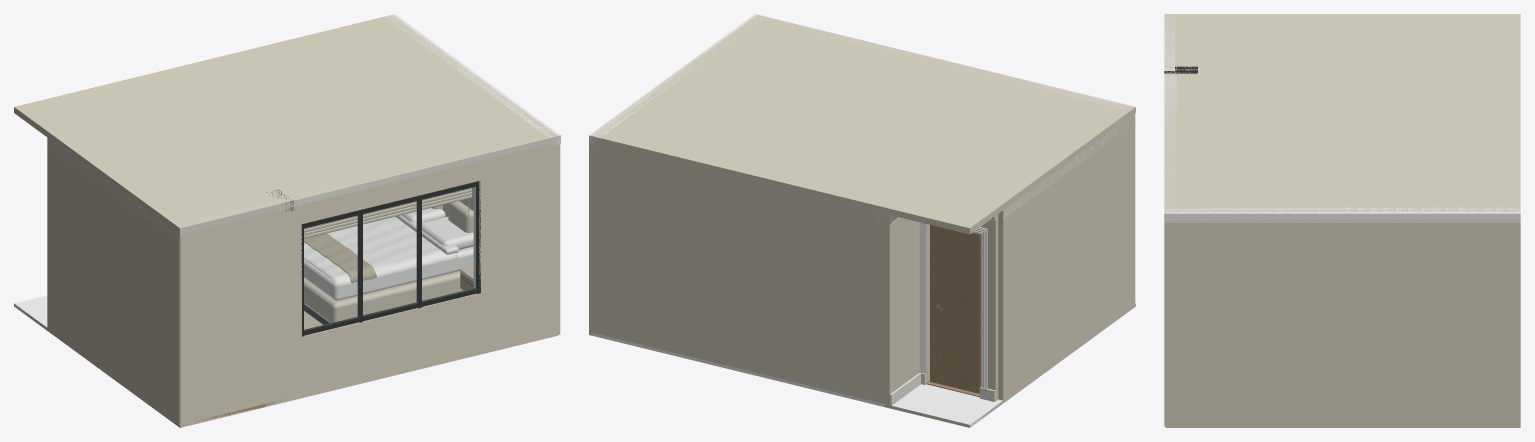
The picture shows the model from 3 angles, left to right: view 1: azimuth 30°, elevation 25°; view 2: azimuth 150°, elevation 25°; view 3: azimuth 270°, elevation 25°; orthographic projection. The views are drawn at different scales.
Parts seen in each view (by area): view 1: Bedroom 2 | ceiling.001, Bedroom 2 stair partition | end.001, Proposal revision | First front | corrected wall 14.001, Proposal | Modern original upper window 0 glass.001, Proposal revision | First front | corrected wall 17.001, Proposal revision | First front | corrected wall 15.001, Proposal revision | First front | corrected wall 13.001, Bedroom2 01 | draped cotton duvet.001, Landing continuous ceiling.001, Proposal revision | First front | corrected wall 16.001, Bedroom2 01 | bed upholstered frame.001, Proposal revision | Roof join | First front masonry head.003 (+18 smaller); view 2: Bedroom 2 | ceiling.001, Principal bedroom 2 | end.001, Bedroom 2 stair partition | end.001, Bedroom2 01 | entrance door leaf.001, Landing continuous ceiling.001, Bedroom 2 hall | end.001, Landing | floor.001, Trim comparison | Bedroom 2 door opening 1 side 1 mitred cas, Principal bedroom | ceiling.001, Principal hall return | end.001, Bedroom 2 door | pier 0.001, Proposal revision | First east | end.001 (+7 smaller); view 3: Proposal revision | First east | end.001, Bedroom 2 | ceiling.001, Landing continuous ceiling.001, Roof join | First east masonry head.001, Roof join | East soffit.001, Proposal revision | Roof join | First front masonry head.003, Proposal revision | Exterior brick floor band First east.001, Proposal | Joined roof lining 023 | Retained original hip 2., Proposal | Joined roof lining 007 | Retained original hip 1., Proposal | Entrance upper ceiling.001, Principal bedroom | ceiling.001, Proposal revision | First front | corrected wall 17.001.
Part boxes in pixels (<box>): Bedroom 2 | ceiling.001: <box>52,15,557,226</box>; Bedroom 2 stair partition | end.001: <box>47,137,179,424</box>; Proposal revision | First front | corrected wall 14.001: <box>203,205,301,418</box>; Proposal | Modern original upper window 0 glass.001: <box>304,187,476,330</box>; Proposal revision | First front | corrected wall 17.001: <box>479,143,558,351</box>; Proposal revision | First front | corrected wall 15.001: <box>302,293,479,394</box>; Proposal revision | First front | corrected wall 13.001: <box>179,229,203,424</box>; Bedroom2 01 | draped cotton duvet.001: <box>304,217,458,288</box>; Landing continuous ceiling.001: <box>14,86,183,233</box>; Proposal revision | First front | corrected wall 16.001: <box>302,161,479,223</box>; Bedroom2 01 | bed upholstered frame.001: <box>304,271,463,323</box>; Proposal revision | Roof join | First front masonry head.003: <box>200,135,558,228</box>; Bedroom 2 | ceiling.001: <box>595,15,1129,206</box>; Principal bedroom 2 | end.001: <box>591,143,884,403</box>; Bedroom 2 stair partition | end.001: <box>998,114,1135,400</box>; Bedroom2 01 | entrance door leaf.001: <box>930,225,980,393</box>; Landing continuous ceiling.001: <box>885,106,1135,234</box>; Bedroom 2 hall | end.001: <box>890,218,919,393</box>; Landing | floor.001: <box>885,384,1001,427</box>; Trim comparison | Bedroom 2 door opening 1 side 1 mitred cas: <box>919,222,987,388</box>; Principal bedroom | ceiling.001: <box>591,136,885,213</box>; Principal hall return | end.001: <box>880,212,890,405</box>; Bedroom 2 door | pier 0.001: <box>981,214,998,400</box>; Proposal revision | First east | end.001: <box>589,142,600,334</box>; Proposal revision | First east | end.001: <box>1165,220,1520,424</box>; Bedroom 2 | ceiling.001: <box>1165,16,1518,212</box>; Landing continuous ceiling.001: <box>1165,14,1520,58</box>; Roof join | First east masonry head.001: <box>1165,207,1520,220</box>; Roof join | East soffit.001: <box>1164,218,1520,222</box>; Proposal revision | Roof join | First front masonry head.003: <box>1164,26,1176,212</box>; Proposal revision | Exterior brick floor band First east.001: <box>1165,424,1520,427</box>; Proposal | Joined roof lining 023 | Retained original hip 2.: <box>1168,210,1519,218</box>; Proposal | Joined roof lining 007 | Retained original hip 1.: <box>1164,75,1176,155</box>; Proposal | Entrance upper ceiling.001: <box>1164,14,1174,70</box>; Principal bedroom | ceiling.001: <box>1518,58,1520,211</box>; Proposal revision | First front | corrected wall 17.001: <box>1164,223,1165,423</box>.
Size of the model in its own units: 5.13 by 2.57 by 3.87.
23 materials, 5 textured.
